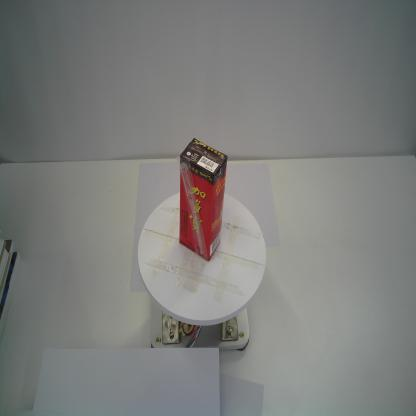Drink: (179, 137, 228, 262)
